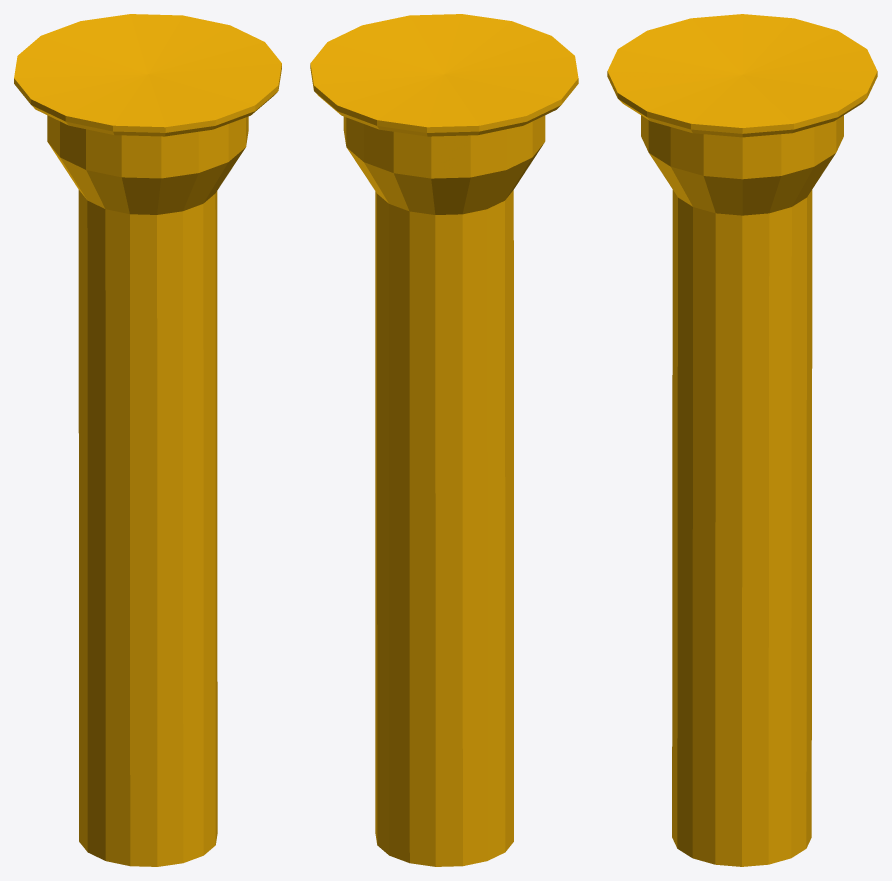
The model's file is COLUMN_TOP.fbx.
3 views of the same model, side by side, from view 1: azimuth 30°, elevation 25°; view 2: azimuth 150°, elevation 25°; view 3: azimuth 270°, elevation 25° (orthographic).
Parts seen in each view (by area): view 1: COLUMN_TOP; view 2: COLUMN_TOP; view 3: COLUMN_TOP.
Boxes of the visible parts, bbox=[...] form: COLUMN_TOP: bbox=[14, 14, 281, 866]; COLUMN_TOP: bbox=[310, 14, 578, 866]; COLUMN_TOP: bbox=[607, 14, 877, 866].
Bounding box in the file's own units: 128 × 402 × 128.
